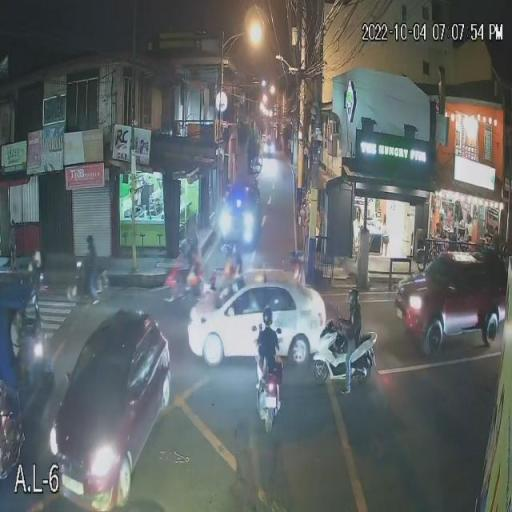helmet: (346, 288, 360, 315), (260, 308, 276, 328), (86, 235, 95, 248)
motorcycle: (313, 325, 382, 392), (66, 258, 116, 301), (256, 359, 280, 425)
rider: (342, 283, 359, 398), (260, 307, 278, 370), (85, 232, 97, 305)
